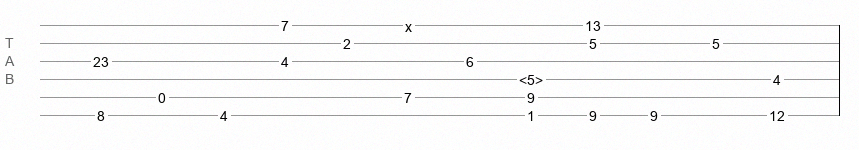0: (158, 90, 166, 100)
1: (527, 108, 535, 118)
12: (769, 108, 785, 118)
13: (585, 18, 601, 28)
2: (343, 36, 351, 46)
23: (93, 54, 109, 64)
4: (220, 108, 228, 118), (281, 54, 289, 64), (773, 72, 781, 82)
5: (589, 36, 597, 46), (712, 36, 720, 46)
6: (466, 54, 474, 64)
7: (281, 18, 289, 28), (404, 90, 412, 100)
8: (97, 108, 105, 118)
9: (527, 90, 535, 100), (589, 108, 597, 118), (650, 108, 658, 118)
harmonic: (519, 72, 543, 82)
x: (405, 19, 412, 27)
